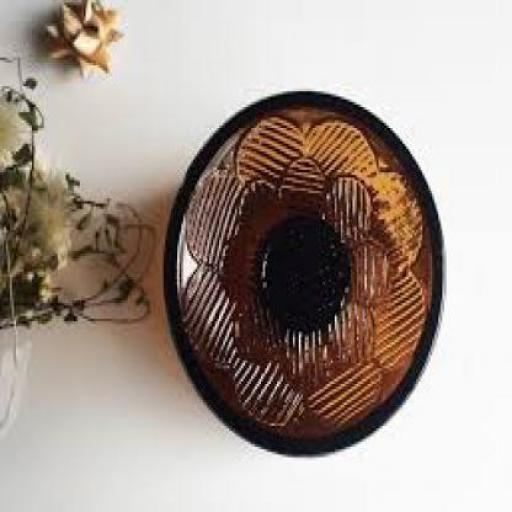glass: (160, 89, 446, 454)
